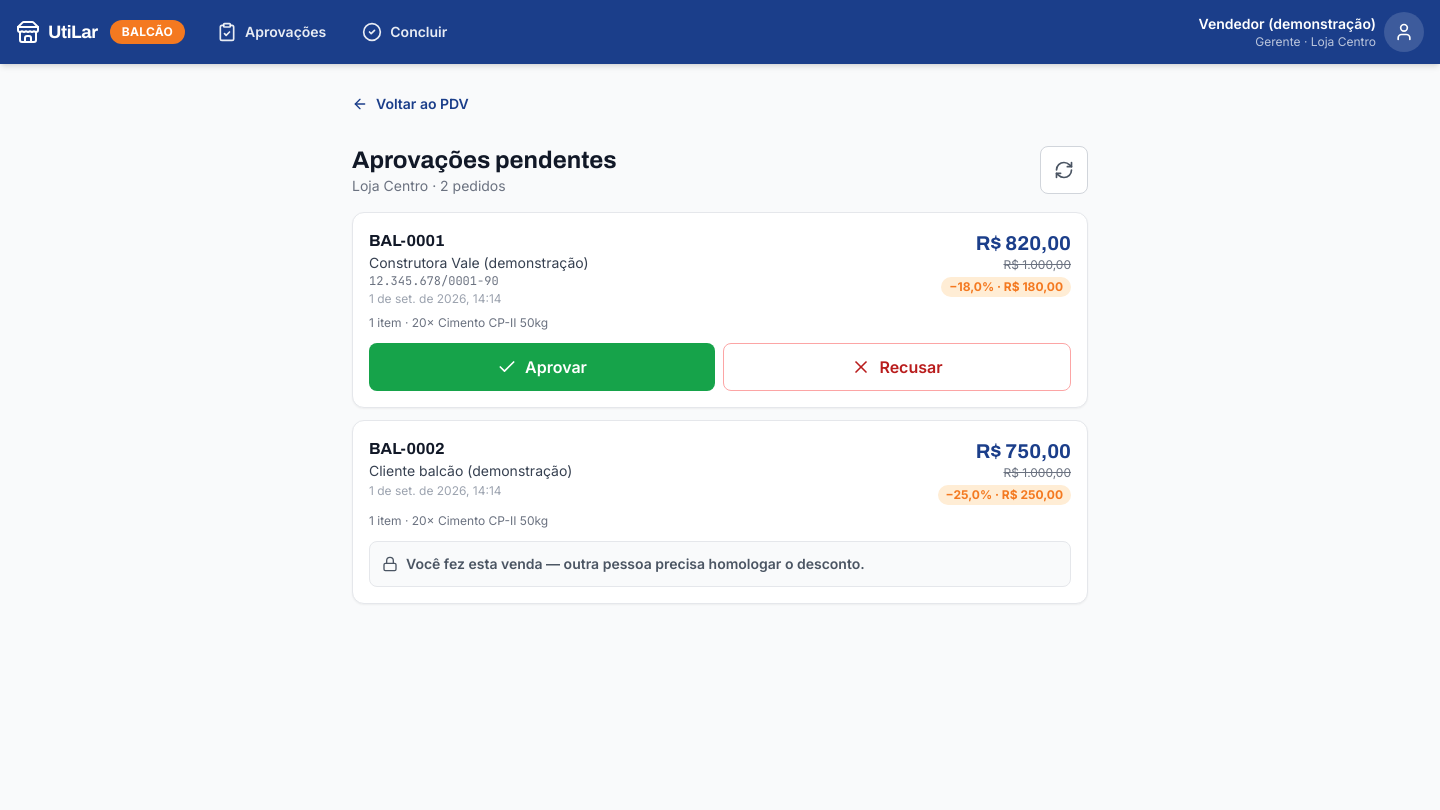
BalcaoApprovalsPage › recusa exige motivo — igual ao backend
This screenshot has width=1440, height=810.
Click the button "Recusar" at (897, 367), box [723, 343, 1071, 391]
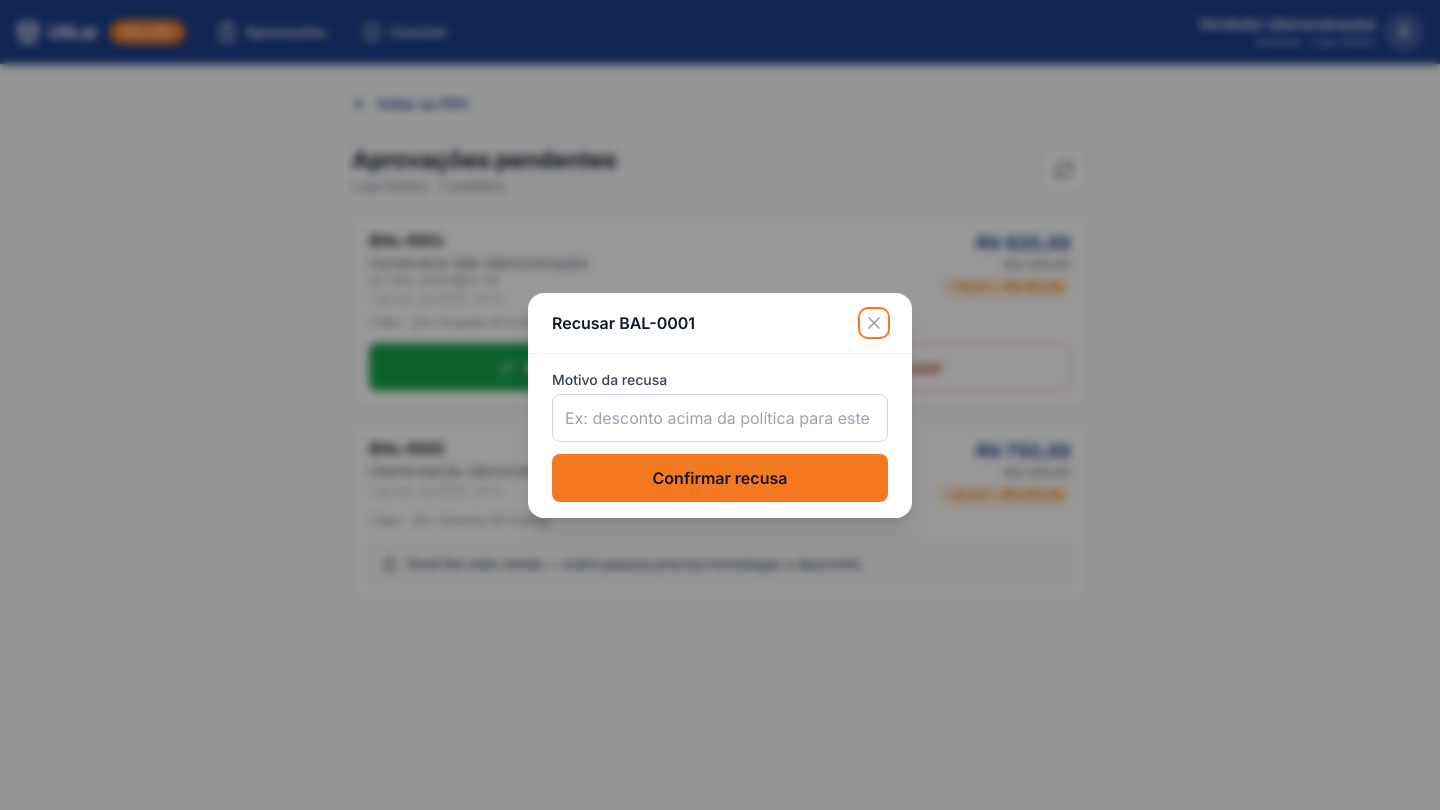
Confirmar sem motivo não passa.
Click the button "Confirmar recusa" at (720, 478), box [552, 454, 888, 502]
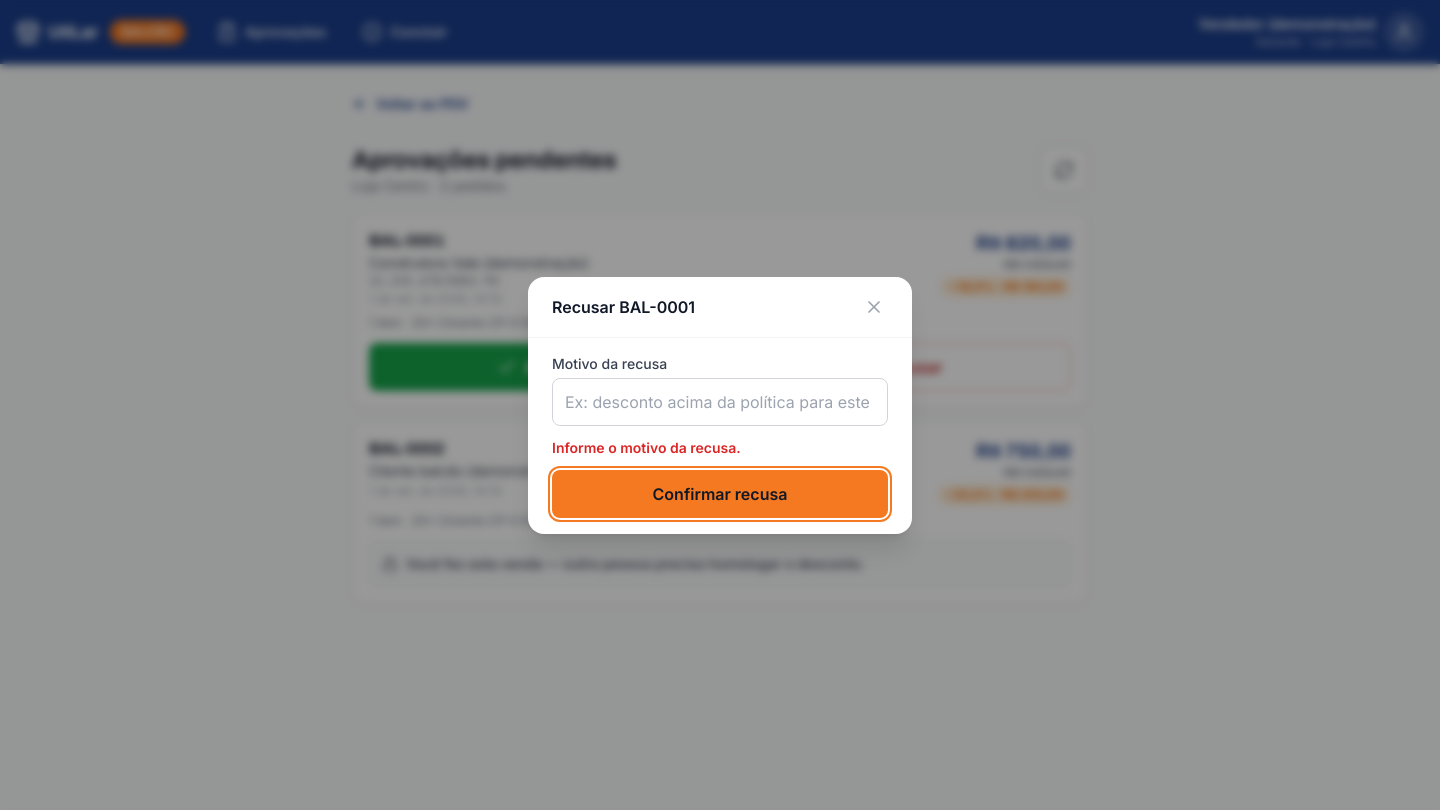
expect the text "BAL-0001" is shown: met, box [369, 232, 445, 249]
expect the text "Informe o motivo da recusa." is shown: met, box [552, 438, 741, 456]
Type "Desconto acima da política para este cliente" into the field labelled "Motivo da recusa" at (720, 402), box [552, 378, 888, 426]
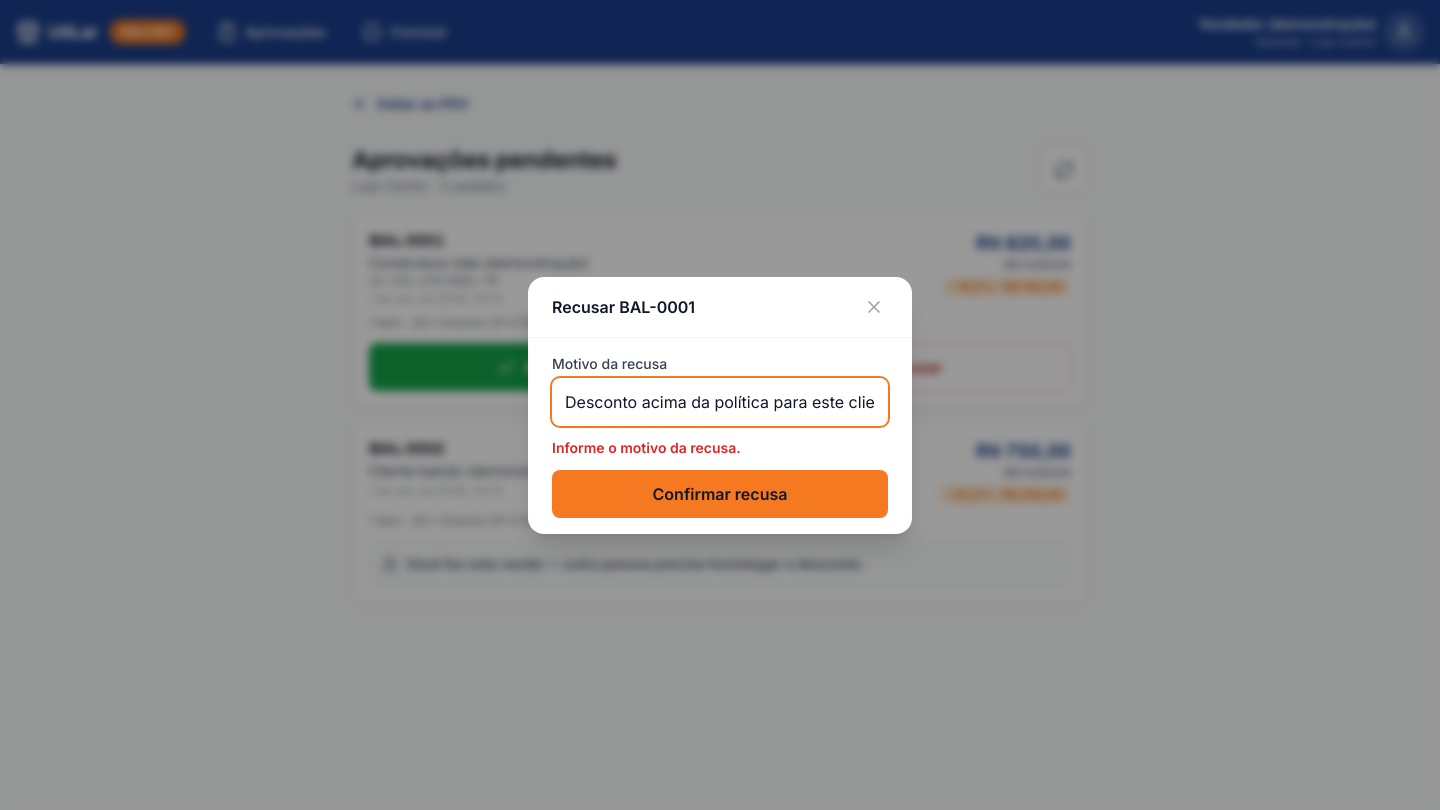
Click the button "Confirmar recusa" at (720, 494), box [552, 470, 888, 518]
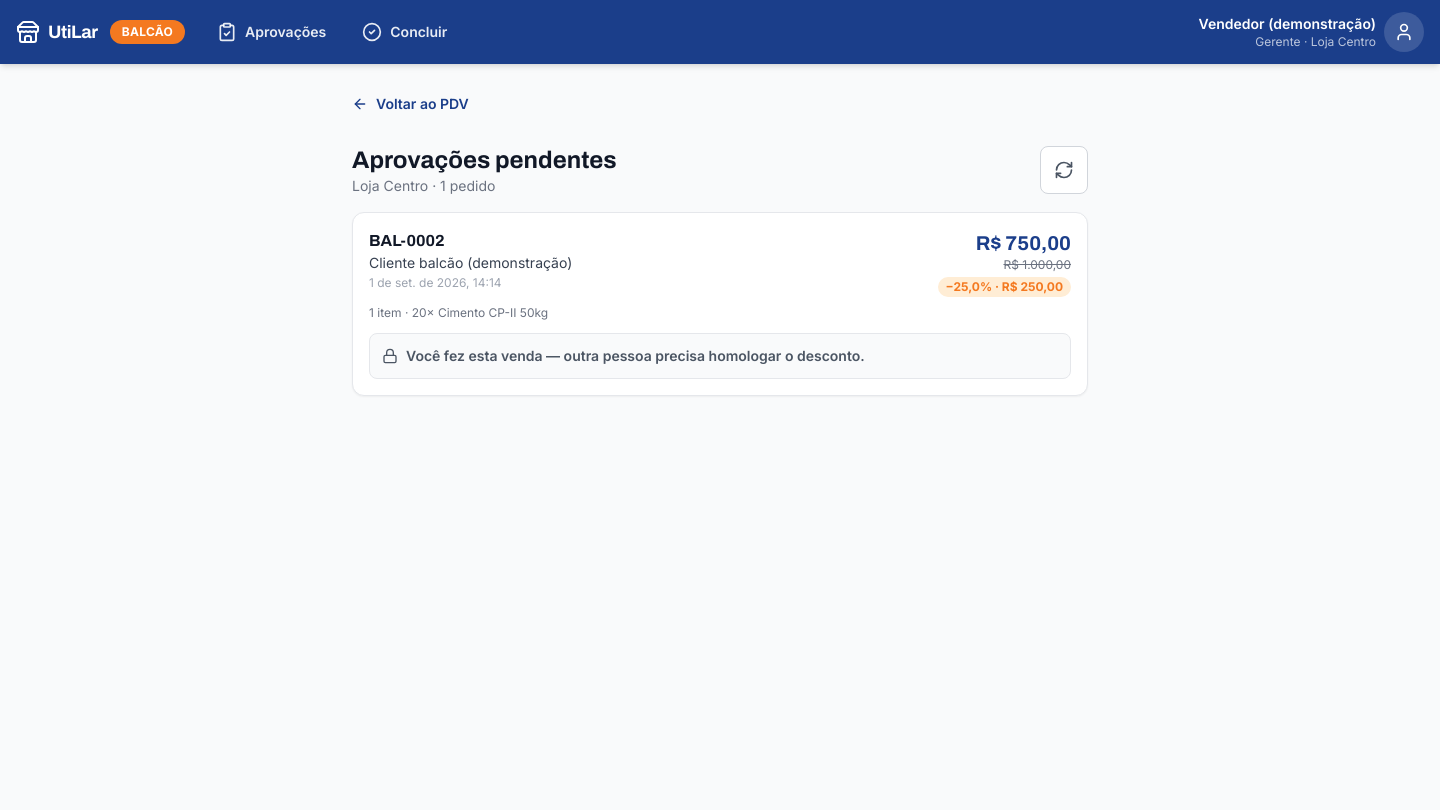
expect the text "BAL-0001" is gone: met
